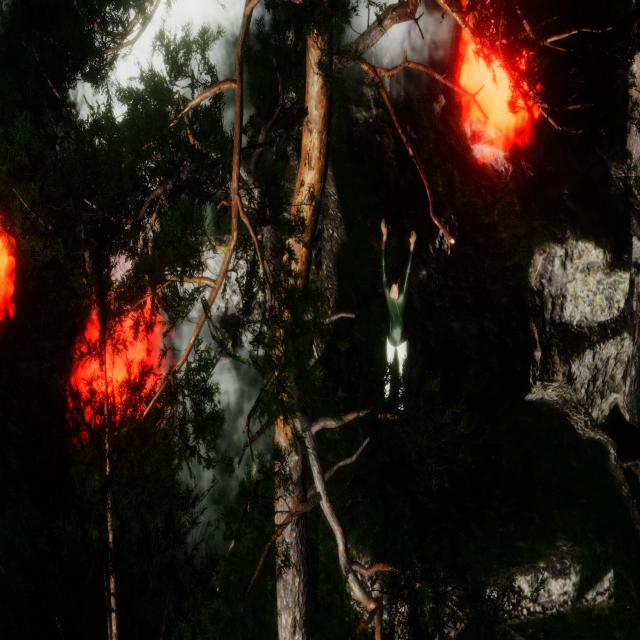Human: (368, 213, 418, 427)
